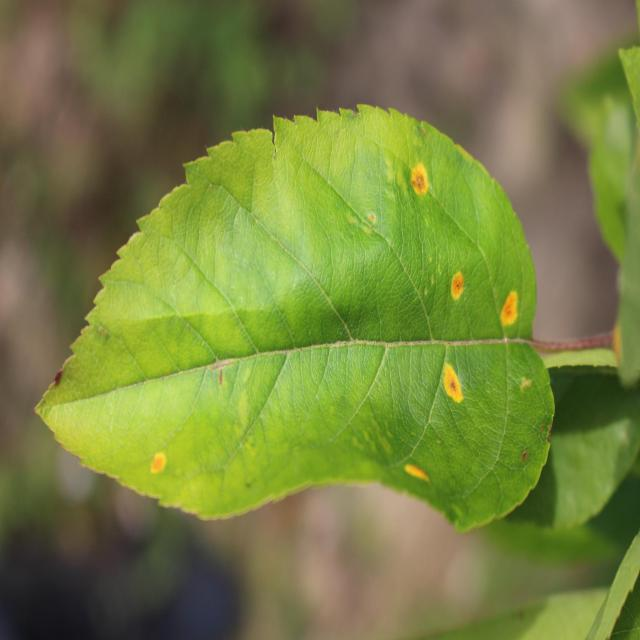Rust: (438, 351, 468, 422), (395, 451, 439, 495), (402, 157, 431, 204), (494, 282, 520, 332), (443, 266, 466, 305), (147, 450, 175, 478)
